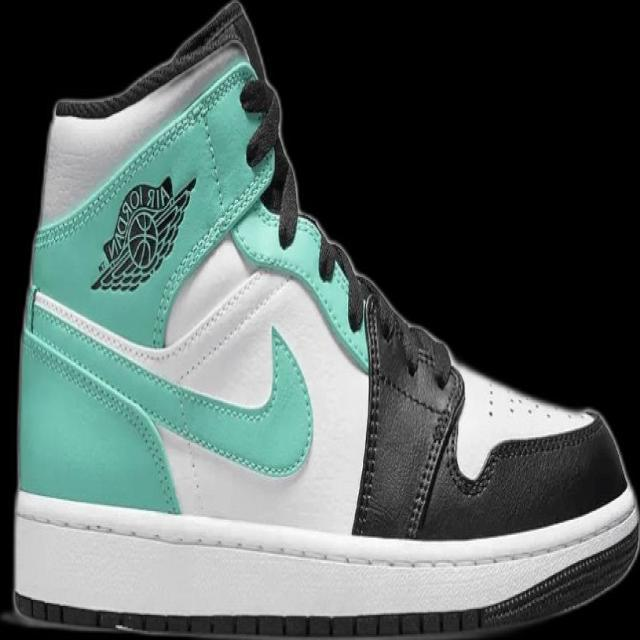J1_InsoleChar: (8, 0, 639, 639)
J1_ShoeLogo: (89, 173, 197, 293)
J1_StitchPattern: (10, 500, 638, 638), (24, 269, 313, 487), (24, 331, 182, 512), (350, 288, 462, 538), (51, 0, 255, 121), (10, 594, 483, 639), (479, 530, 639, 625), (237, 75, 302, 248), (351, 292, 387, 536), (299, 210, 369, 329), (402, 405, 453, 538), (478, 375, 589, 430)
